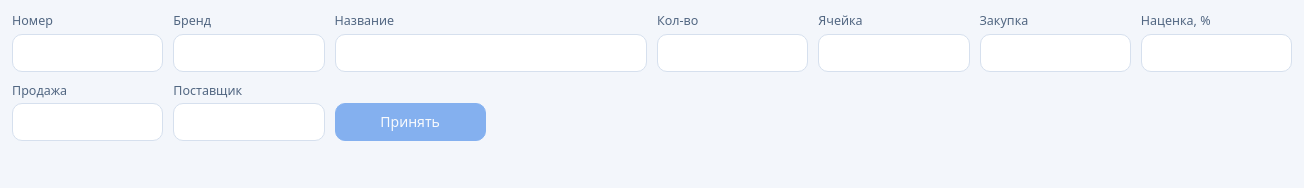
it: ReceiptForm › sale below purchase warning
The width and height of the screenshot is (1304, 188).
Type "412" into the field labelled "Закупка" at (1055, 52), box [980, 34, 1131, 72]
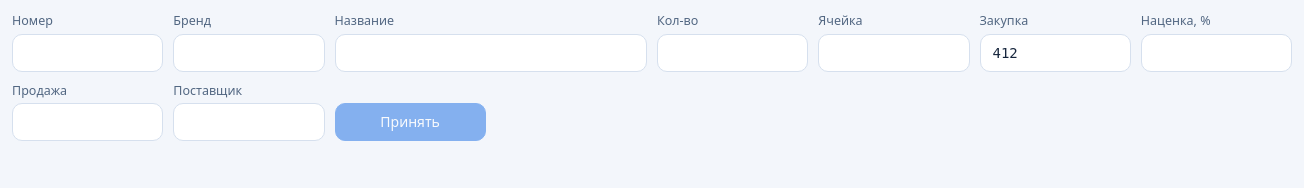
Type "300" into the field labelled "Продажа" at (88, 122), box [12, 103, 163, 141]
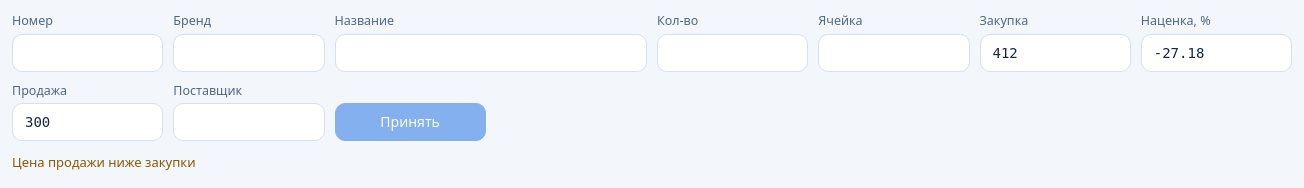
expect the text "Цена продажи ниже закупки" is shown: met, box [12, 153, 196, 171]
